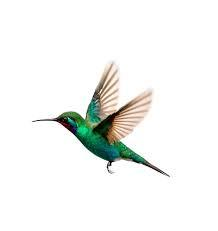non-mango: (31, 61, 170, 177)
